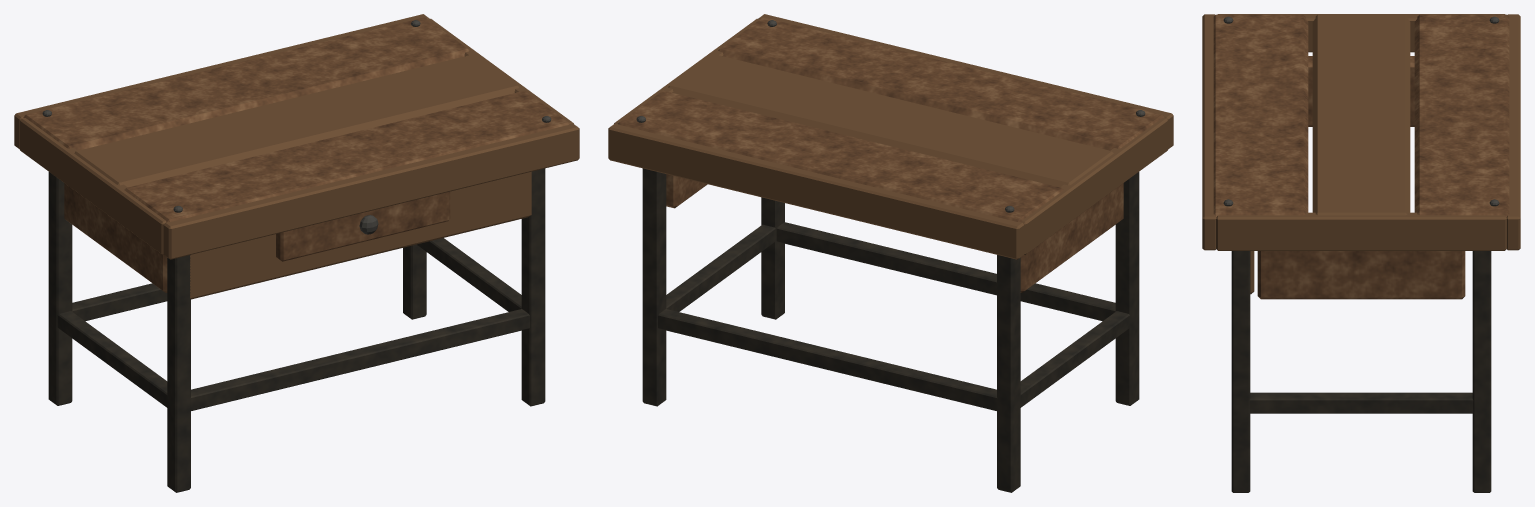
File: Desk.glb
3 views of the same model, side by side, from view 1: azimuth 30°, elevation 25°; view 2: azimuth 150°, elevation 25°; view 3: azimuth 270°, elevation 25° (orthographic).
Parts seen in each view (by area): view 1: Desk.001; view 2: Desk.001; view 3: Desk.001.
Boxes of the visible parts, <box> form: Desk.001: <box>14,14,579,492</box>; Desk.001: <box>608,14,1173,492</box>; Desk.001: <box>1202,14,1520,492</box>.
Bounding box in the file's own units: 1.16 × 0.778 × 0.765.
Materials: 4 (4 with a texture image).
